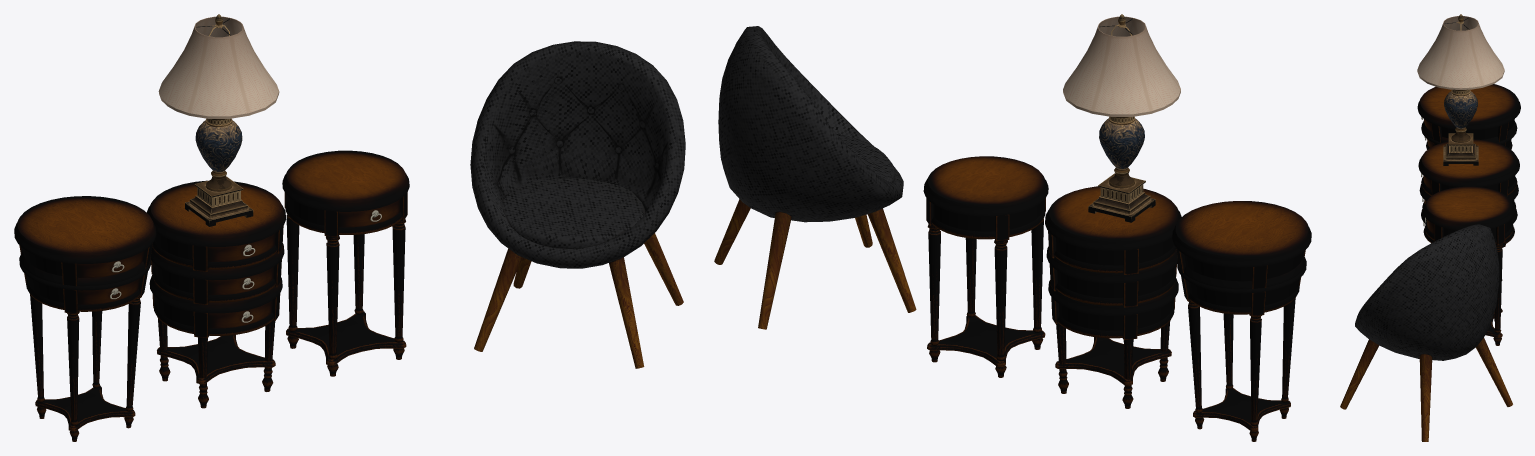
The model's file is some_furniture.glb.
The picture shows the model from 3 angles, left to right: view 1: azimuth 30°, elevation 25°; view 2: azimuth 150°, elevation 25°; view 3: azimuth 270°, elevation 25°; orthographic projection. The views are drawn at different scales.
Visible parts, largest first — view 1: chairlegs_low.001, endtable1 top _low.006, endtable1 top _low.003, endtable1 top _low, lampscrew_low.001; view 2: chairlegs_low.001, endtable1 top _low.006, endtable1 top _low.003, endtable1 top _low, lampscrew_low.001; view 3: chairlegs_low.001, lampscrew_low.001, endtable1 top _low, endtable1 top _low.006, endtable1 top _low.003.
Boxes of the visible parts, x1=… form: chairlegs_low.001: x1=470, y1=41, x2=685, y2=368; endtable1 top _low.006: x1=146, y1=180, x2=286, y2=408; endtable1 top _low.003: x1=14, y1=196, x2=156, y2=441; endtable1 top _low: x1=282, y1=150, x2=409, y2=376; lampscrew_low.001: x1=158, y1=14, x2=279, y2=226; chairlegs_low.001: x1=714, y1=26, x2=916, y2=329; endtable1 top _low.006: x1=1045, y1=186, x2=1181, y2=408; endtable1 top _low.003: x1=1172, y1=201, x2=1311, y2=441; endtable1 top _low: x1=923, y1=156, x2=1048, y2=377; lampscrew_low.001: x1=1063, y1=14, x2=1180, y2=222; chairlegs_low.001: x1=1340, y1=224, x2=1512, y2=441; lampscrew_low.001: x1=1417, y1=14, x2=1504, y2=165; endtable1 top _low: x1=1423, y1=186, x2=1515, y2=345; endtable1 top _low.006: x1=1418, y1=139, x2=1519, y2=280; endtable1 top _low.003: x1=1417, y1=84, x2=1520, y2=149.
Bounding box in the file's own units: 2.87 × 1.66 × 0.9844.
3 materials, 3 textured.
